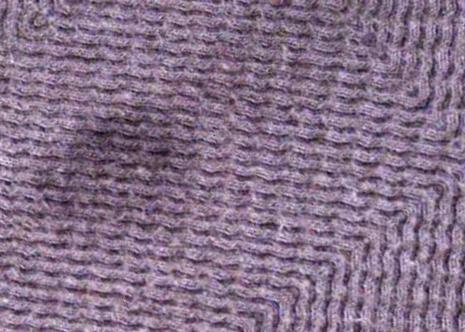stain: (51, 101, 201, 211)
